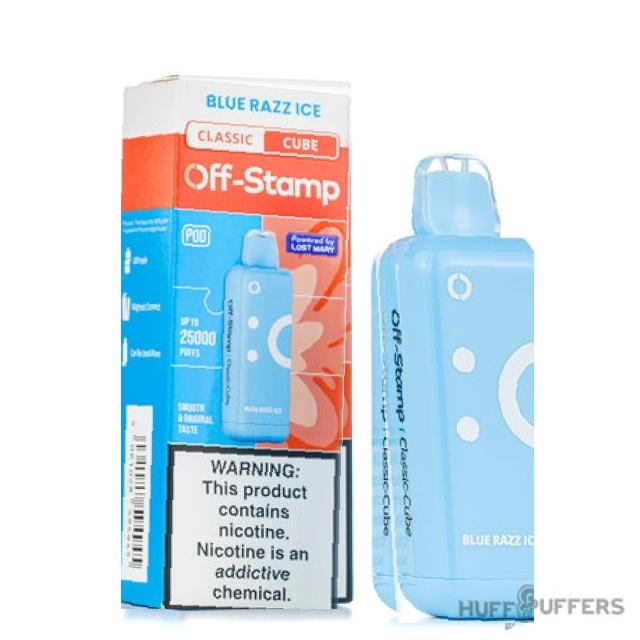Vapes: (121, 74, 353, 609), (369, 152, 534, 623)
